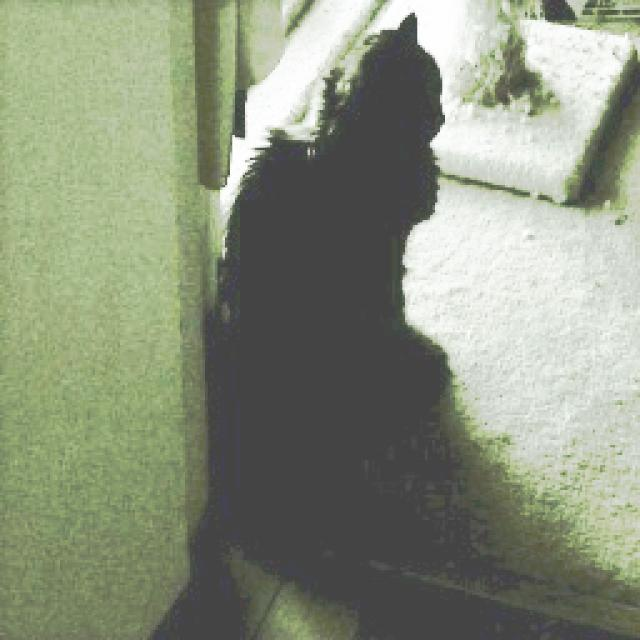cat: (173, 0, 477, 530)
